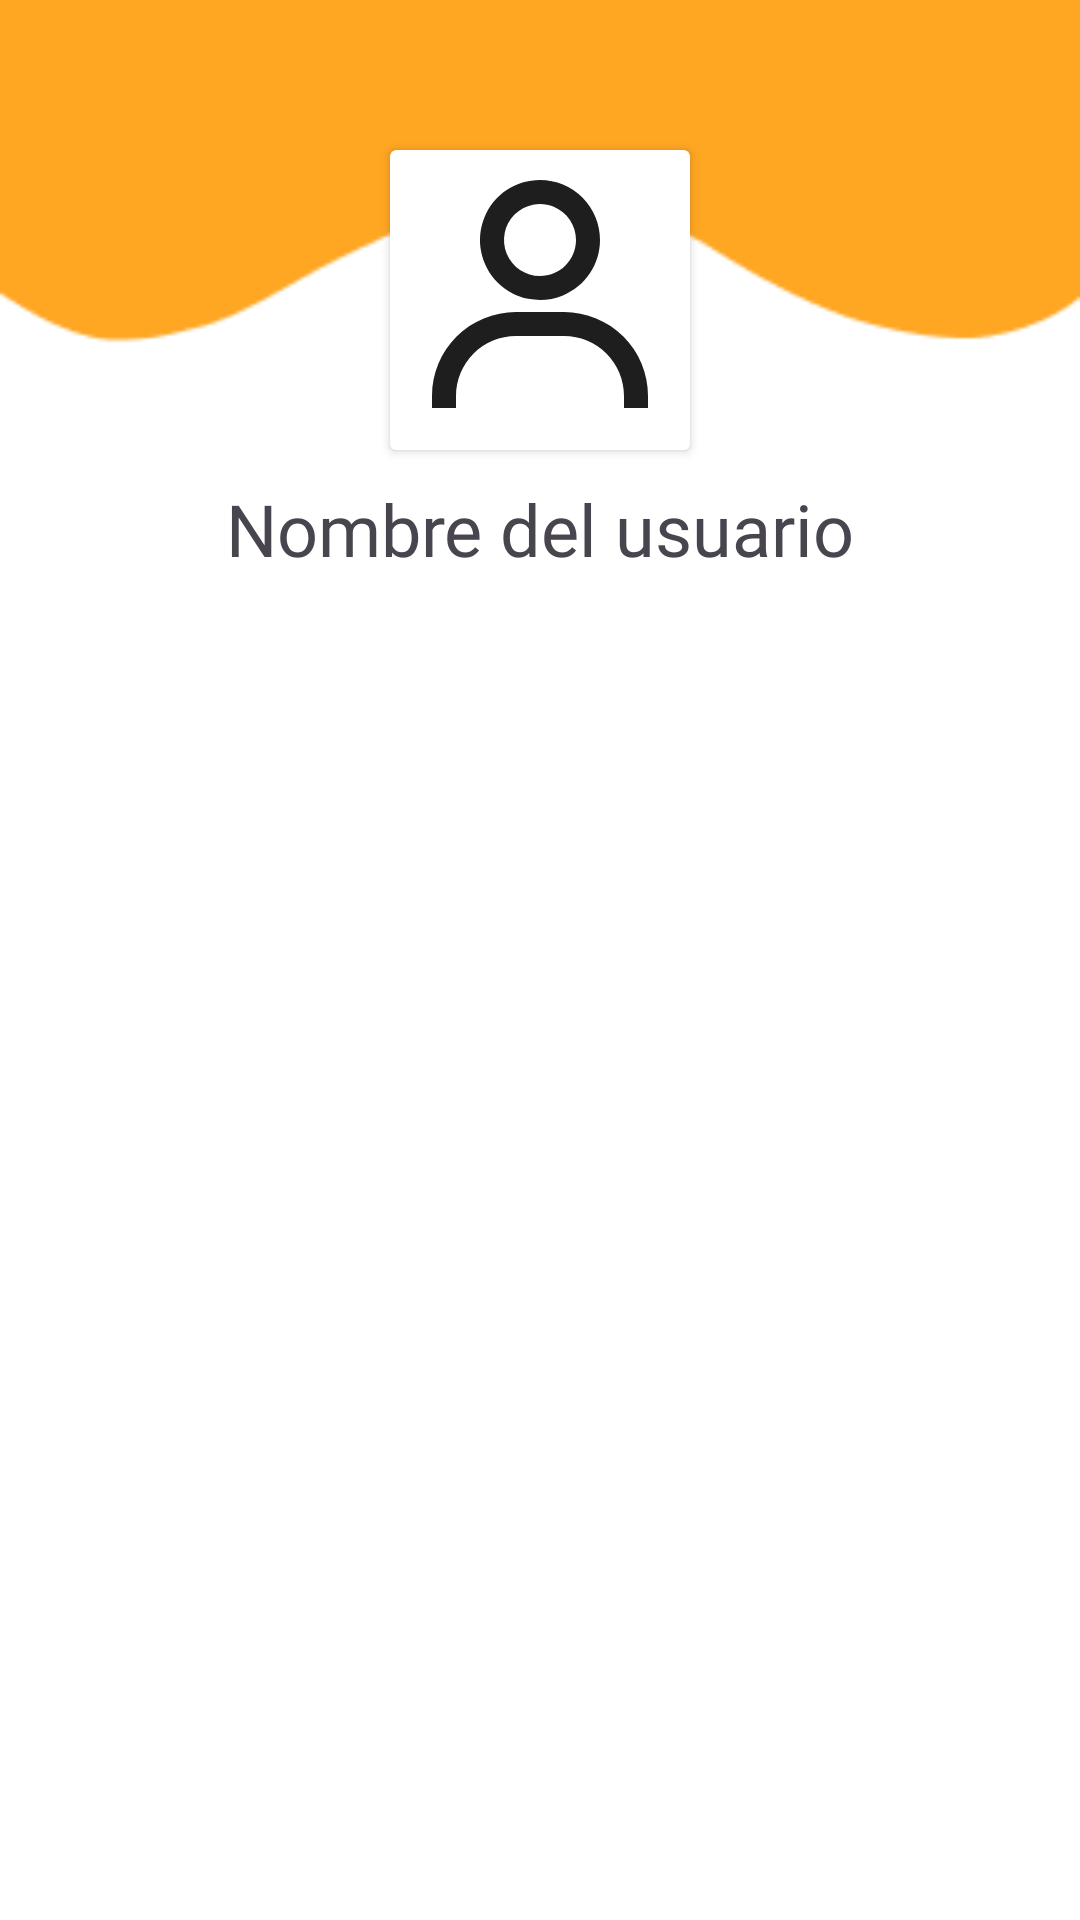

Named icons in this screenshot (1080px×1920px) and their centers, (x=x, y=y):
profile: (x=540, y=300)
